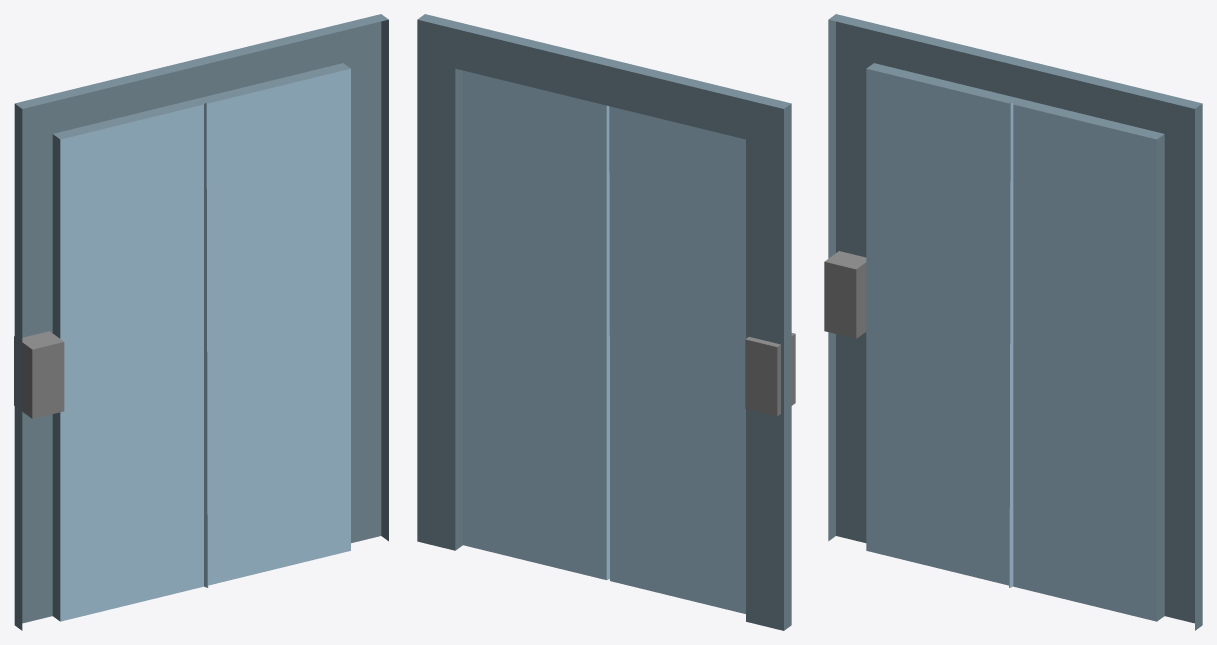
Rendered from window_01.fbx.
3 renders of one model, left to right at view 1: azimuth 30°, elevation 25°; view 2: azimuth 150°, elevation 25°; view 3: azimuth 330°, elevation 25°, orthographic.
Parts seen in each view (by area): view 1: window_01; view 2: window_01; view 3: window_01.
Part boxes in pixels (x1,y1,x2,y2): window_01: [14, 14, 388, 630]; window_01: [417, 14, 795, 630]; window_01: [824, 14, 1202, 630].
Bounding box in the file's own units: 200 × 272 × 17.4.
